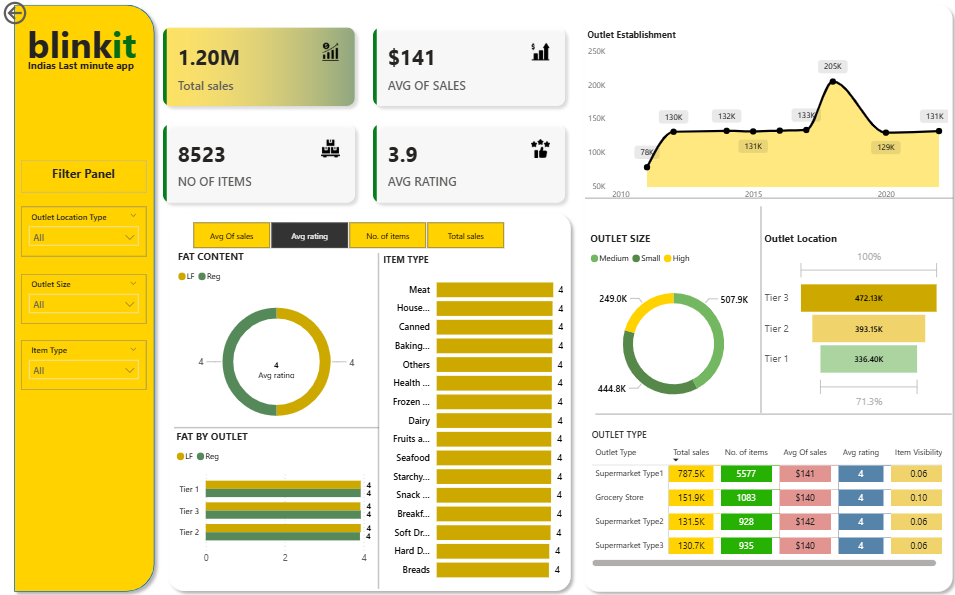

Layout of this report page (visuals, bound fields, positions):
{"tool":"powerbi","page":{"name":"Page 1","canvas":[1280,800],"ordinal":0},"visuals":[{"type":"shape","box":[10.8,0,205.1,800.6],"z":0},{"type":"textbox","box":[19.8,21.6,178.1,75.6],"z":1000},{"type":"textbox","box":[18.9,73.7,179.5,34],"z":2000},{"type":"cardVisual","fields":{"Data":["BlinkIT Grocery Data.Total sales","BlinkIT Grocery Data.Avg Of sales","BlinkIT Grocery Data.No. of items","BlinkIT Grocery Data.Avg rating"]},"box":[199.7,21.6,570.3,269.9],"z":3000},{"type":"shape","box":[215.9,278.9,554.1,521.8],"z":4000},{"type":"donutChart","title":"FAT CONTENT","fields":{"Y":["BlinkIT Grocery Data.Avg rating"],"Category":["BlinkIT Grocery Data.Item Fat Content"]},"box":[232.1,334.6,273.5,257.3],"z":5000},{"type":"slicer","fields":{"Values":["METRICS.METRICS"]},"box":[232.1,291.5,464.2,48.6],"z":6000},{"type":"actionButton","box":[0,0,100,40],"z":7000},{"type":"cardVisual","fields":{"Data":["BlinkIT Grocery Data.Avg rating"]},"box":[320.2,464.2,97.2,50.4],"z":8000},{"type":"clusteredBarChart","title":"FAT BY OUTLET","fields":{"Y":["BlinkIT Grocery Data.Avg rating"],"Category":["BlinkIT Grocery Data.Outlet Location Type"],"Series":["BlinkIT Grocery Data.Item Fat Content"]},"box":[230.3,573.9,273.5,190.7],"z":9000},{"type":"shape","box":[232.1,439,273.5,269.9],"z":10000},{"type":"shape","box":[367,340,273.5,448],"z":11000},{"type":"barChart","title":"ITEM TYPE","fields":{"Y":["BlinkIT Grocery Data.Avg rating"],"Category":["BlinkIT Grocery Data.Item Type"]},"box":[505.6,340,250.1,448],"z":12000},{"type":"shape","box":[770,0,509.2,800.6],"z":13000},{"type":"lineChart","title":"Outlet Establishment ","fields":{"Y":["BlinkIT Grocery Data.Total sales"],"Category":["BlinkIT Grocery Data.Outlet Establishment Year"]},"box":[777.2,39.6,491.2,239.3],"z":14000},{"type":"shape","box":[779,131.3,491.2,269.9],"z":15000},{"type":"donutChart","title":"OUTLET SIZE","fields":{"Y":["BlinkIT Grocery Data.Total sales"],"Category":["BlinkIT Grocery Data.Outlet Size"]},"box":[782,310.7,232.1,257.3],"z":16000},{"type":"shape","box":[878,278.9,273.5,275.3],"z":17000},{"type":"funnel","title":" Outlet Location","fields":{"Category":["BlinkIT Grocery Data.Outlet Location Type"],"Y":["Sum(BlinkIT Grocery Data.Sales)"]},"box":[1014.1,310.7,244.7,242.9],"z":18000},{"type":"shape","box":[793.4,419.2,475,269.9],"z":19000},{"type":"pivotTable","title":"OUTLET TYPE","fields":{"Rows":["BlinkIT Grocery Data.Outlet Type"],"Values":["BlinkIT Grocery Data.Total sales","BlinkIT Grocery Data.No. of items","BlinkIT Grocery Data.Avg Of sales","BlinkIT Grocery Data.Avg rating","Avg(BlinkIT Grocery Data.Item Visibility)"]},"box":[784.4,573.9,476.8,188.9],"z":20000},{"type":"slicer","fields":{"Values":["BlinkIT Grocery Data.Outlet Location Type"]},"box":[28.8,278.9,167.3,66.6],"z":21000},{"type":"slicer","fields":{"Values":["BlinkIT Grocery Data.Outlet Size"]},"box":[28.8,367,167.3,66.6],"z":22000},{"type":"slicer","fields":{"Values":["BlinkIT Grocery Data.Item Type"]},"box":[28.8,457,167.3,66.6],"z":23000},{"type":"textbox","box":[28.8,215.9,167.3,43.2],"z":24000}]}

Visuals, with their boxes in screenshot pixels (x1, y1, x2, y2), scaled from the page's 1280x800 canvas onto the 955x595 screenshot:
shape: (8, 0, 161, 594)
textbox: (15, 16, 148, 72)
textbox: (14, 55, 148, 80)
cardVisual - BlinkIT Grocery Data.Total sales x BlinkIT Grocery Data.Avg Of sales: (149, 16, 574, 217)
shape: (161, 207, 574, 594)
"FAT CONTENT" donutChart: (173, 249, 377, 440)
slicer - METRICS.METRICS: (173, 217, 520, 253)
actionButton: (0, 0, 75, 30)
cardVisual - BlinkIT Grocery Data.Avg rating: (239, 345, 311, 383)
"FAT BY OUTLET" clusteredBarChart: (172, 427, 376, 569)
shape: (173, 327, 377, 527)
shape: (274, 253, 478, 586)
"ITEM TYPE" barChart: (377, 253, 564, 586)
shape: (574, 0, 954, 594)
"Outlet Establishment " lineChart: (580, 29, 946, 207)
shape: (581, 98, 948, 298)
"OUTLET SIZE" donutChart: (583, 231, 757, 422)
shape: (655, 207, 859, 412)
" Outlet Location" funnel: (757, 231, 939, 412)
shape: (592, 312, 946, 513)
"OUTLET TYPE" pivotTable: (585, 427, 941, 567)
slicer - BlinkIT Grocery Data.Outlet Location Type: (21, 207, 146, 257)
slicer - BlinkIT Grocery Data.Outlet Size: (21, 273, 146, 322)
slicer - BlinkIT Grocery Data.Item Type: (21, 340, 146, 389)
textbox: (21, 161, 146, 193)
